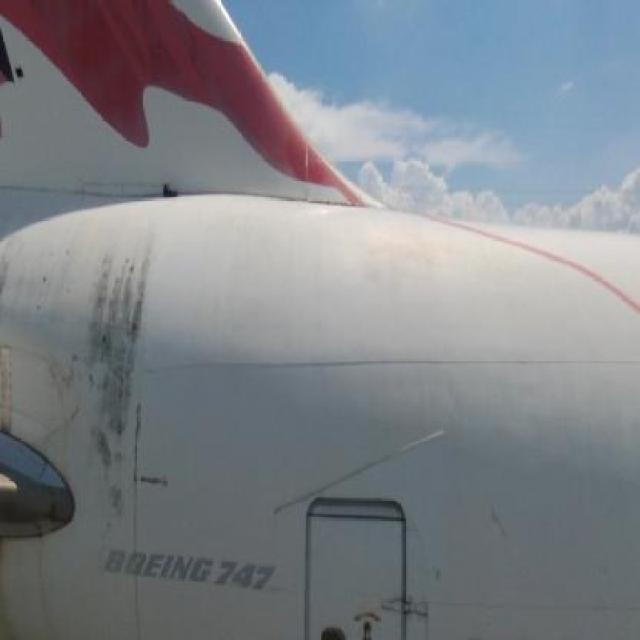Rust: (70, 215, 181, 516)
Scartch: (470, 460, 548, 562), (132, 399, 176, 503)
